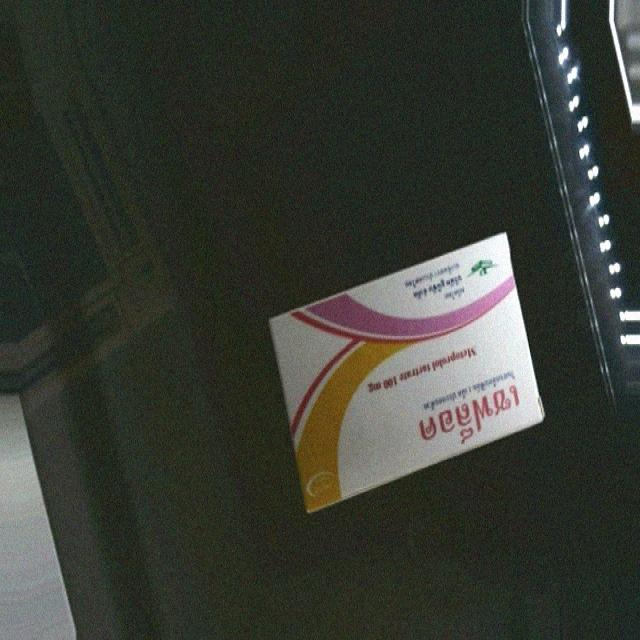sefloc: (267, 233, 542, 511)
